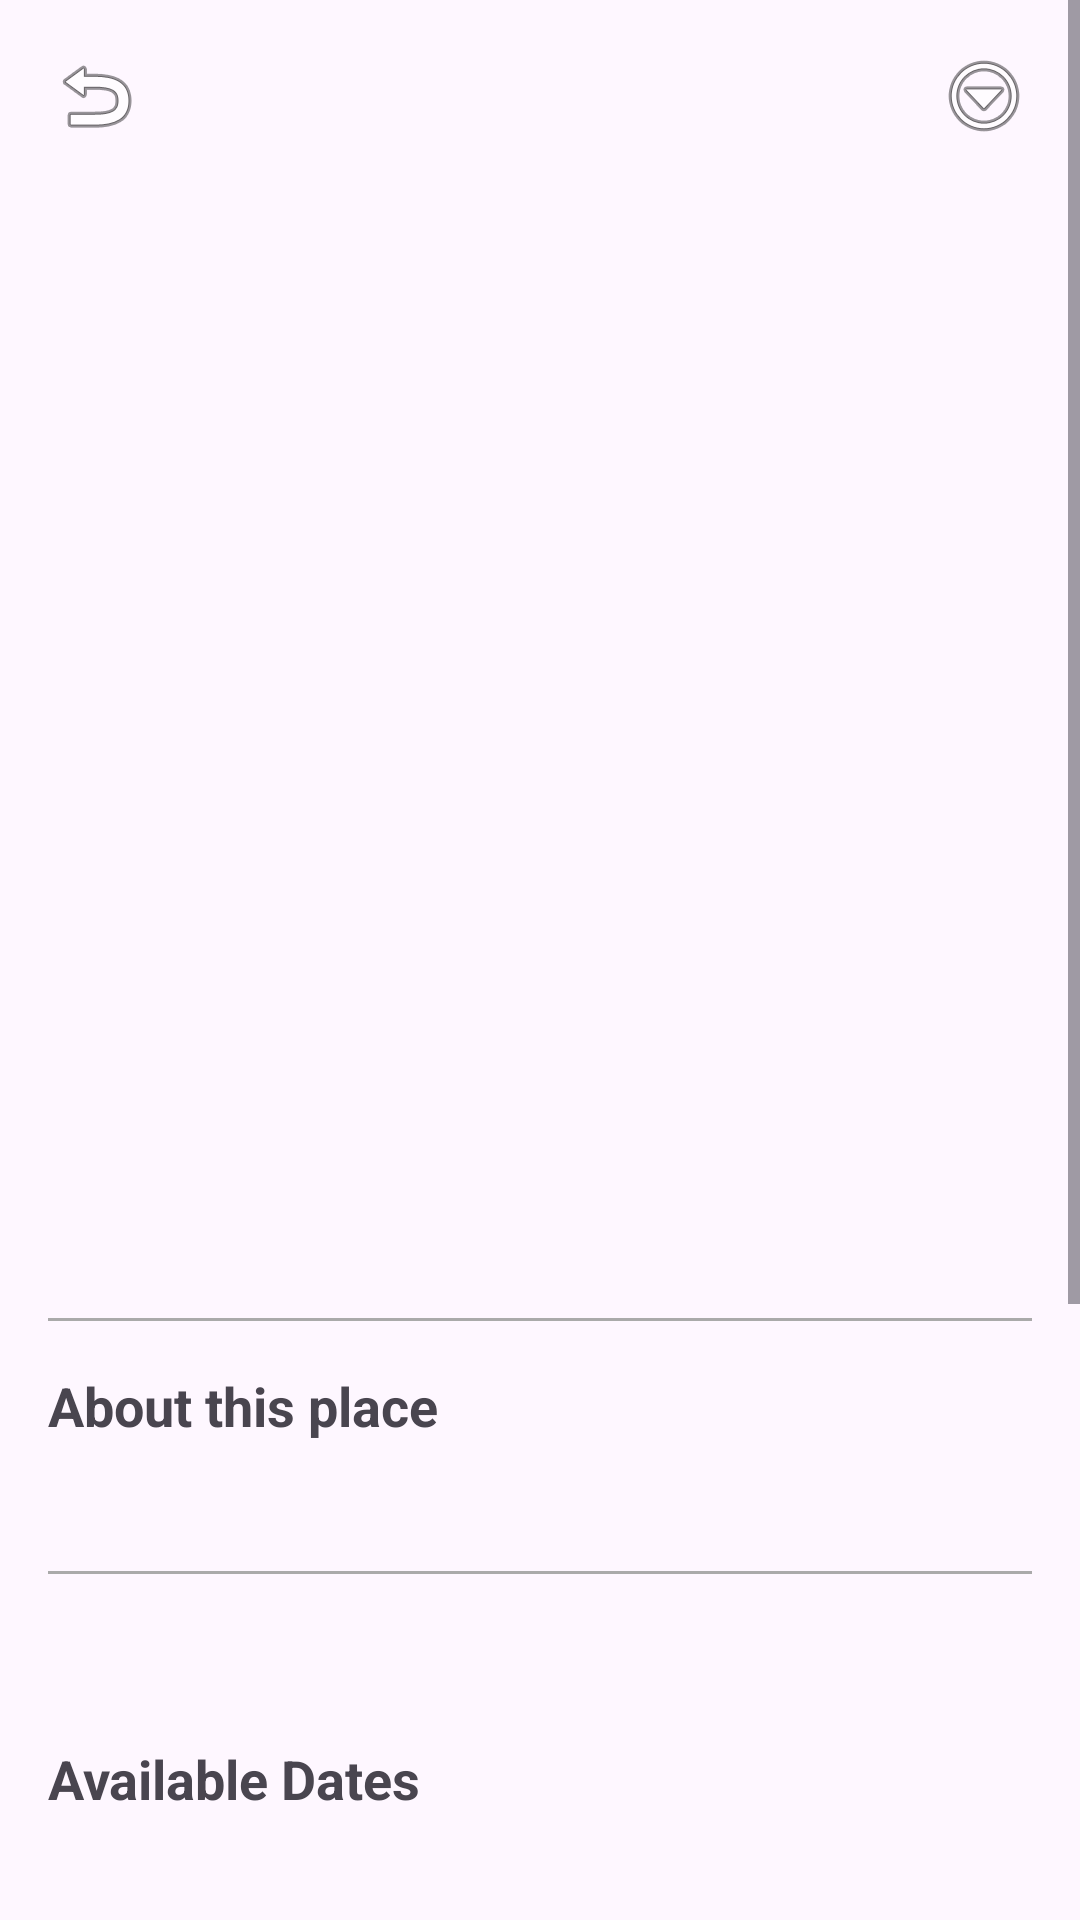

Point at icon controls on the screen. Image size 1080 x 1920, points as (x=x, y=y).
more: (x=984, y=96)
revert: (x=97, y=96)
